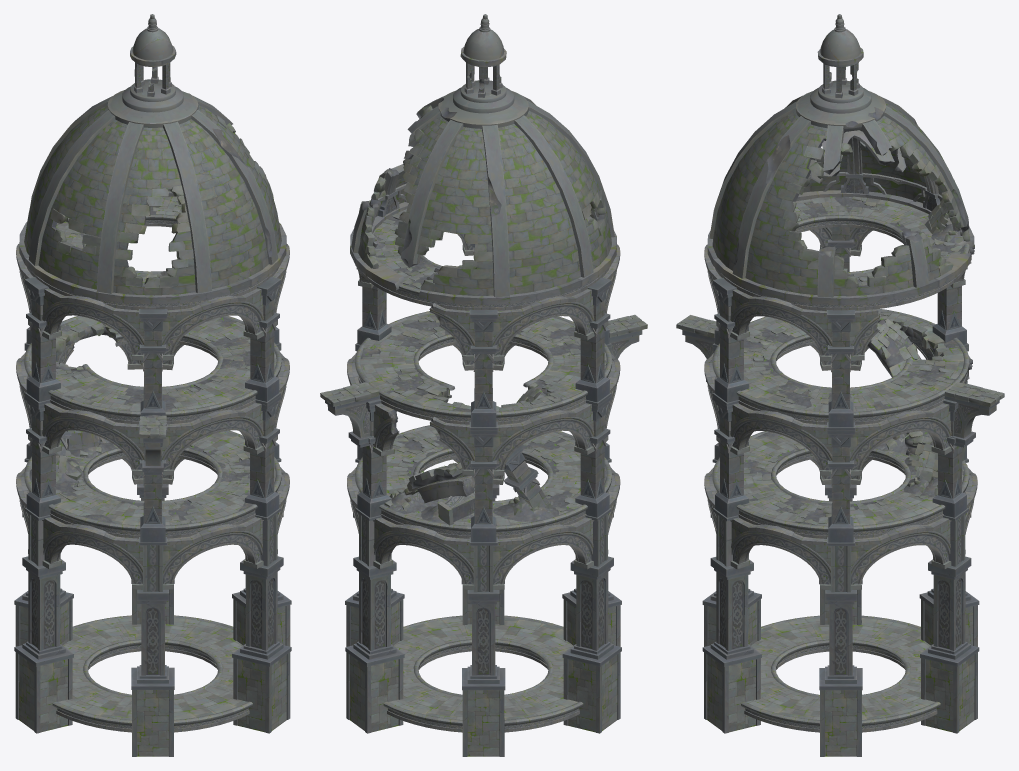
The model's file is Area_MdBuild_SdTower06_Group.fbx.
3 renders of one model, left to right at view 1: azimuth 30°, elevation 25°; view 2: azimuth 150°, elevation 25°; view 3: azimuth 270°, elevation 25°, orthographic.
Visible parts, largest first — view 1: Area_MdBuild_SdTower06_Lod0, Area_MdBuild_SdTower06_01_Lod0; view 2: Area_MdBuild_SdTower06_Lod0, Area_MdBuild_SdTower06_01_Lod0; view 3: Area_MdBuild_SdTower06_Lod0, Area_MdBuild_SdTower06_01_Lod0.
Boxes of the visible parts, x1=… form: Area_MdBuild_SdTower06_Lod0: x1=16, y1=14, x2=289, y2=545; Area_MdBuild_SdTower06_01_Lod0: x1=14, y1=458, x2=291, y2=756; Area_MdBuild_SdTower06_Lod0: x1=320, y1=14, x2=647, y2=545; Area_MdBuild_SdTower06_01_Lod0: x1=345, y1=458, x2=621, y2=756; Area_MdBuild_SdTower06_Lod0: x1=676, y1=14, x2=1004, y2=545; Area_MdBuild_SdTower06_01_Lod0: x1=702, y1=458, x2=979, y2=756.
Size of the model in its own units: 41.94 by 107 by 46.77.
Materials: 7 (7 with a texture image).
